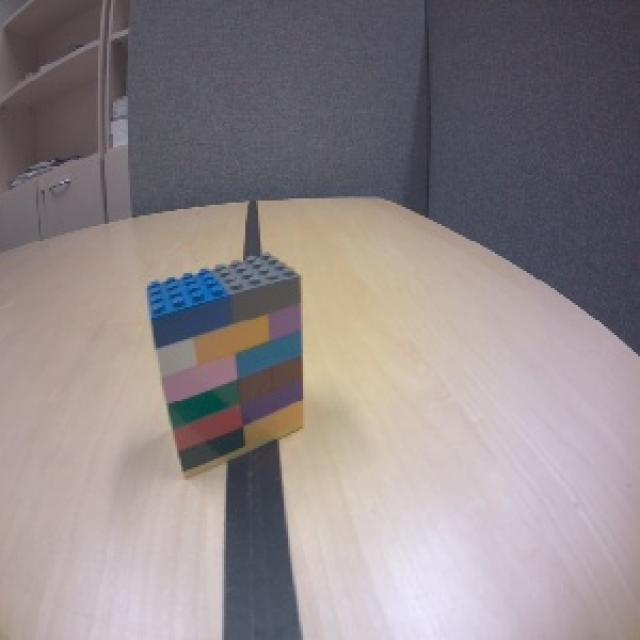obstacle: (144, 246, 309, 479)
